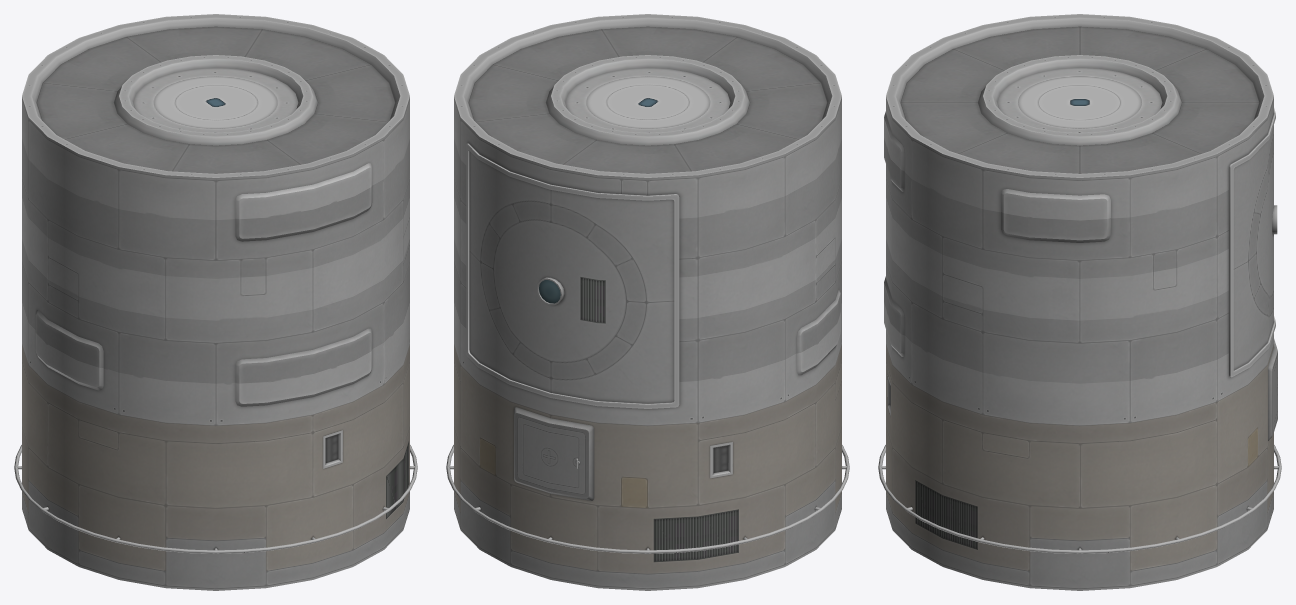
Rendered from Eridani_Crew_2.obj.
3 views of the same model, side by side, from view 1: azimuth 30°, elevation 25°; view 2: azimuth 150°, elevation 25°; view 3: azimuth 270°, elevation 25° (orthographic).
Visible parts, largest first — view 1: Eridani_Crew_2; view 2: Eridani_Crew_2; view 3: Eridani_Crew_2.
Boxes of the visible parts, bbox=[...] form: Eridani_Crew_2: bbox=[14, 14, 417, 590]; Eridani_Crew_2: bbox=[446, 14, 849, 590]; Eridani_Crew_2: bbox=[878, 14, 1281, 590].
Bounding box in the file's own units: 2.6 × 2.93 × 2.6.
